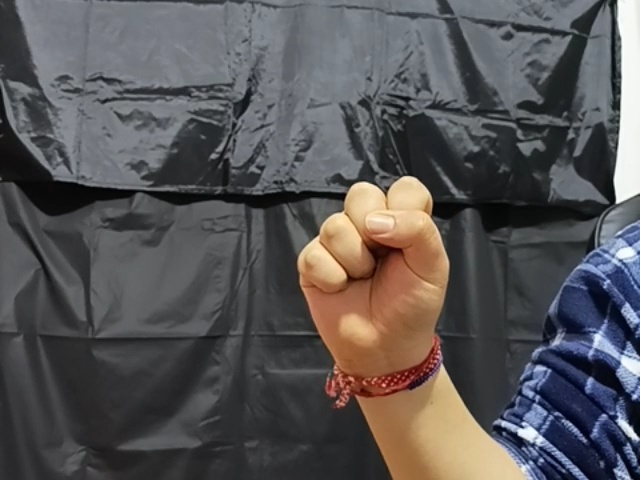S: (296, 171, 452, 365)
